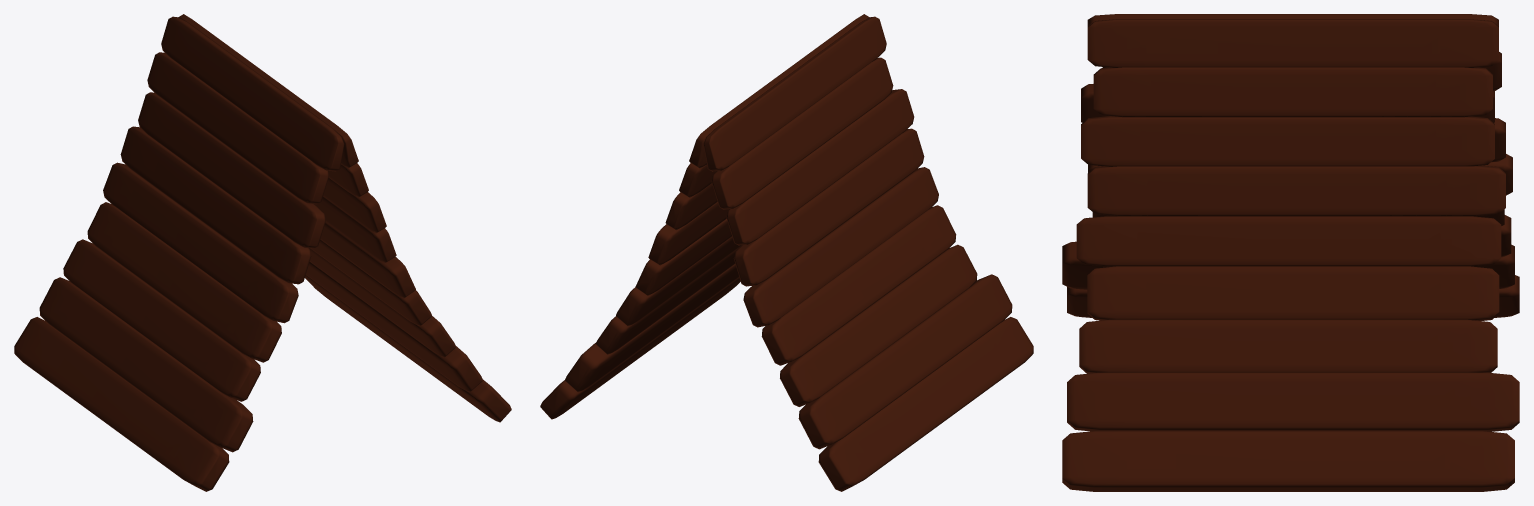
File: RoofTop.obj
The picture shows the model from 3 angles, left to right: view 1: azimuth 30°, elevation 25°; view 2: azimuth 150°, elevation 25°; view 3: azimuth 270°, elevation 25°; orthographic projection. The views are drawn at different scales.
Visible parts, largest first — view 1: RoofTiles1 Roof1 HouseBase1 RoofTile1, RoofTiles1 Roof1 HouseBase1 RoofTile19, RoofTiles1 Roof1 HouseBase1 RoofTile2, RoofTiles1 Roof1 HouseBase1 RoofTile3, RoofTiles1 Roof1 HouseBase1 RoofTile4, RoofTiles1 Roof1 HouseBase1 RoofTile5, RoofTiles1 Roof1 HouseBase1 RoofTile6, RoofTiles1 Roof1 HouseBase1 RoofTile17, RoofTiles1 Roof1 HouseBase1 RoofTile7, RoofTiles1 Roof1 HouseBase1 RoofTile8, RoofTiles1 Roof1 HouseBase1 RoofTile9, RoofTile18 RoofTiles1 Roof1 HouseBase1 (+6 smaller); view 2: RoofTiles1 Roof1 HouseBase1 RoofTile1, RoofTiles1 Roof1 HouseBase1 RoofTile19, RoofTiles1 Roof1 HouseBase1 RoofTile2, RoofTiles1 Roof1 HouseBase1 RoofTile3, RoofTiles1 Roof1 HouseBase1 RoofTile4, RoofTiles1 Roof1 HouseBase1 RoofTile5, RoofTiles1 Roof1 HouseBase1 RoofTile17, RoofTiles1 Roof1 HouseBase1 RoofTile6, RoofTiles1 Roof1 HouseBase1 RoofTile7, RoofTiles1 Roof1 HouseBase1 RoofTile8, RoofTiles1 Roof1 HouseBase1 RoofTile9, RoofTiles1 Roof1 HouseBase1 RoofTile10 (+6 smaller); view 3: RoofTile18 RoofTiles1 Roof1 HouseBase1, RoofTiles1 Roof1 HouseBase1 RoofTile8, RoofTiles1 Roof1 HouseBase1 RoofTile9, RoofTiles1 Roof1 HouseBase1 RoofTile10, RoofTiles1 Roof1 HouseBase1 RoofTile11, RoofTiles1 Roof1 HouseBase1 RoofTile12, RoofTiles1 Roof1 HouseBase1 RoofTile13, RoofTiles1 Roof1 HouseBase1 RoofTile14, RoofTiles1 Roof1 HouseBase1 RoofTile16, RoofTiles1 Roof1 HouseBase1 RoofTile17, RoofTiles1 Roof1 HouseBase1 RoofTile1, RoofTiles1 Roof1 HouseBase1 RoofTile19 (+1 smaller).
Boxes of the visible parts, <box> form: RoofTiles1 Roof1 HouseBase1 RoofTile1: <box>39,277,253,452</box>; RoofTiles1 Roof1 HouseBase1 RoofTile19: <box>14,317,229,491</box>; RoofTiles1 Roof1 HouseBase1 RoofTile2: <box>63,239,260,401</box>; RoofTiles1 Roof1 HouseBase1 RoofTile3: <box>87,202,281,362</box>; RoofTiles1 Roof1 HouseBase1 RoofTile4: <box>103,162,298,323</box>; RoofTiles1 Roof1 HouseBase1 RoofTile5: <box>120,126,311,284</box>; RoofTiles1 Roof1 HouseBase1 RoofTile6: <box>138,92,325,248</box>; RoofTiles1 Roof1 HouseBase1 RoofTile17: <box>161,16,344,171</box>; RoofTiles1 Roof1 HouseBase1 RoofTile7: <box>147,52,328,204</box>; RoofTiles1 Roof1 HouseBase1 RoofTile8: <box>305,262,482,392</box>; RoofTiles1 Roof1 HouseBase1 RoofTile9: <box>309,248,455,357</box>; RoofTile18 RoofTiles1 Roof1 HouseBase1: <box>305,275,511,422</box>; RoofTiles1 Roof1 HouseBase1 RoofTile1: <box>798,274,1012,449</box>; RoofTiles1 Roof1 HouseBase1 RoofTile19: <box>818,317,1033,491</box>; RoofTiles1 Roof1 HouseBase1 RoofTile2: <box>780,244,977,406</box>; RoofTiles1 Roof1 HouseBase1 RoofTile3: <box>761,205,956,365</box>; RoofTiles1 Roof1 HouseBase1 RoofTile4: <box>743,167,938,327</box>; RoofTiles1 Roof1 HouseBase1 RoofTile5: <box>733,128,924,286</box>; RoofTiles1 Roof1 HouseBase1 RoofTile17: <box>703,16,886,171</box>; RoofTiles1 Roof1 HouseBase1 RoofTile6: <box>726,89,914,245</box>; RoofTiles1 Roof1 HouseBase1 RoofTile7: <box>711,57,893,209</box>; RoofTiles1 Roof1 HouseBase1 RoofTile8: <box>565,264,739,392</box>; RoofTiles1 Roof1 HouseBase1 RoofTile9: <box>596,246,740,354</box>; RoofTiles1 Roof1 HouseBase1 RoofTile10: <box>616,236,741,326</box>; RoofTile18 RoofTiles1 Roof1 HouseBase1: <box>1062,431,1514,491</box>; RoofTiles1 Roof1 HouseBase1 RoofTile8: <box>1067,372,1519,431</box>; RoofTiles1 Roof1 HouseBase1 RoofTile9: <box>1079,319,1497,373</box>; RoofTiles1 Roof1 HouseBase1 RoofTile10: <box>1087,266,1499,320</box>; RoofTiles1 Roof1 HouseBase1 RoofTile11: <box>1076,216,1501,266</box>; RoofTiles1 Roof1 HouseBase1 RoofTile12: <box>1087,165,1505,216</box>; RoofTiles1 Roof1 HouseBase1 RoofTile13: <box>1081,116,1494,166</box>; RoofTiles1 Roof1 HouseBase1 RoofTile14: <box>1093,67,1492,117</box>; RoofTiles1 Roof1 HouseBase1 RoofTile16: <box>1087,19,1498,67</box>; RoofTiles1 Roof1 HouseBase1 RoofTile17: <box>1087,14,1498,26</box>; RoofTiles1 Roof1 HouseBase1 RoofTile1: <box>1062,241,1514,289</box>; RoofTiles1 Roof1 HouseBase1 RoofTile19: <box>1067,275,1519,317</box>.
Size of the model in its own units: 16.22 by 15.55 by 16.67.
